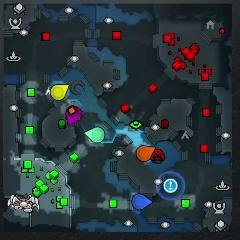Other: (164, 179, 178, 193)
p1: (132, 193, 153, 210)
p2: (85, 126, 105, 144)
p3: (66, 106, 82, 126)
p4: (50, 84, 68, 100)
p5: (135, 145, 156, 161)
